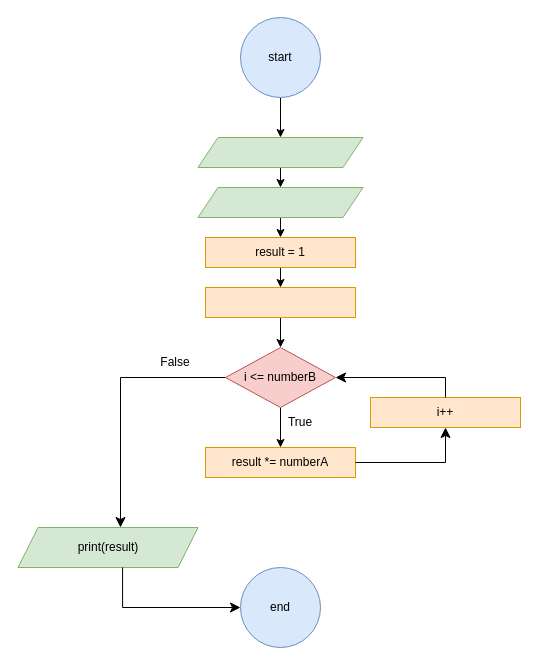
Image size: 538x665. Some labels were removed from this diagram. Each missing label, with the box of its shape:
i = 1: (204, 286, 356, 318)
numberA: (197, 136, 363, 168)
numberB: (197, 186, 363, 218)
